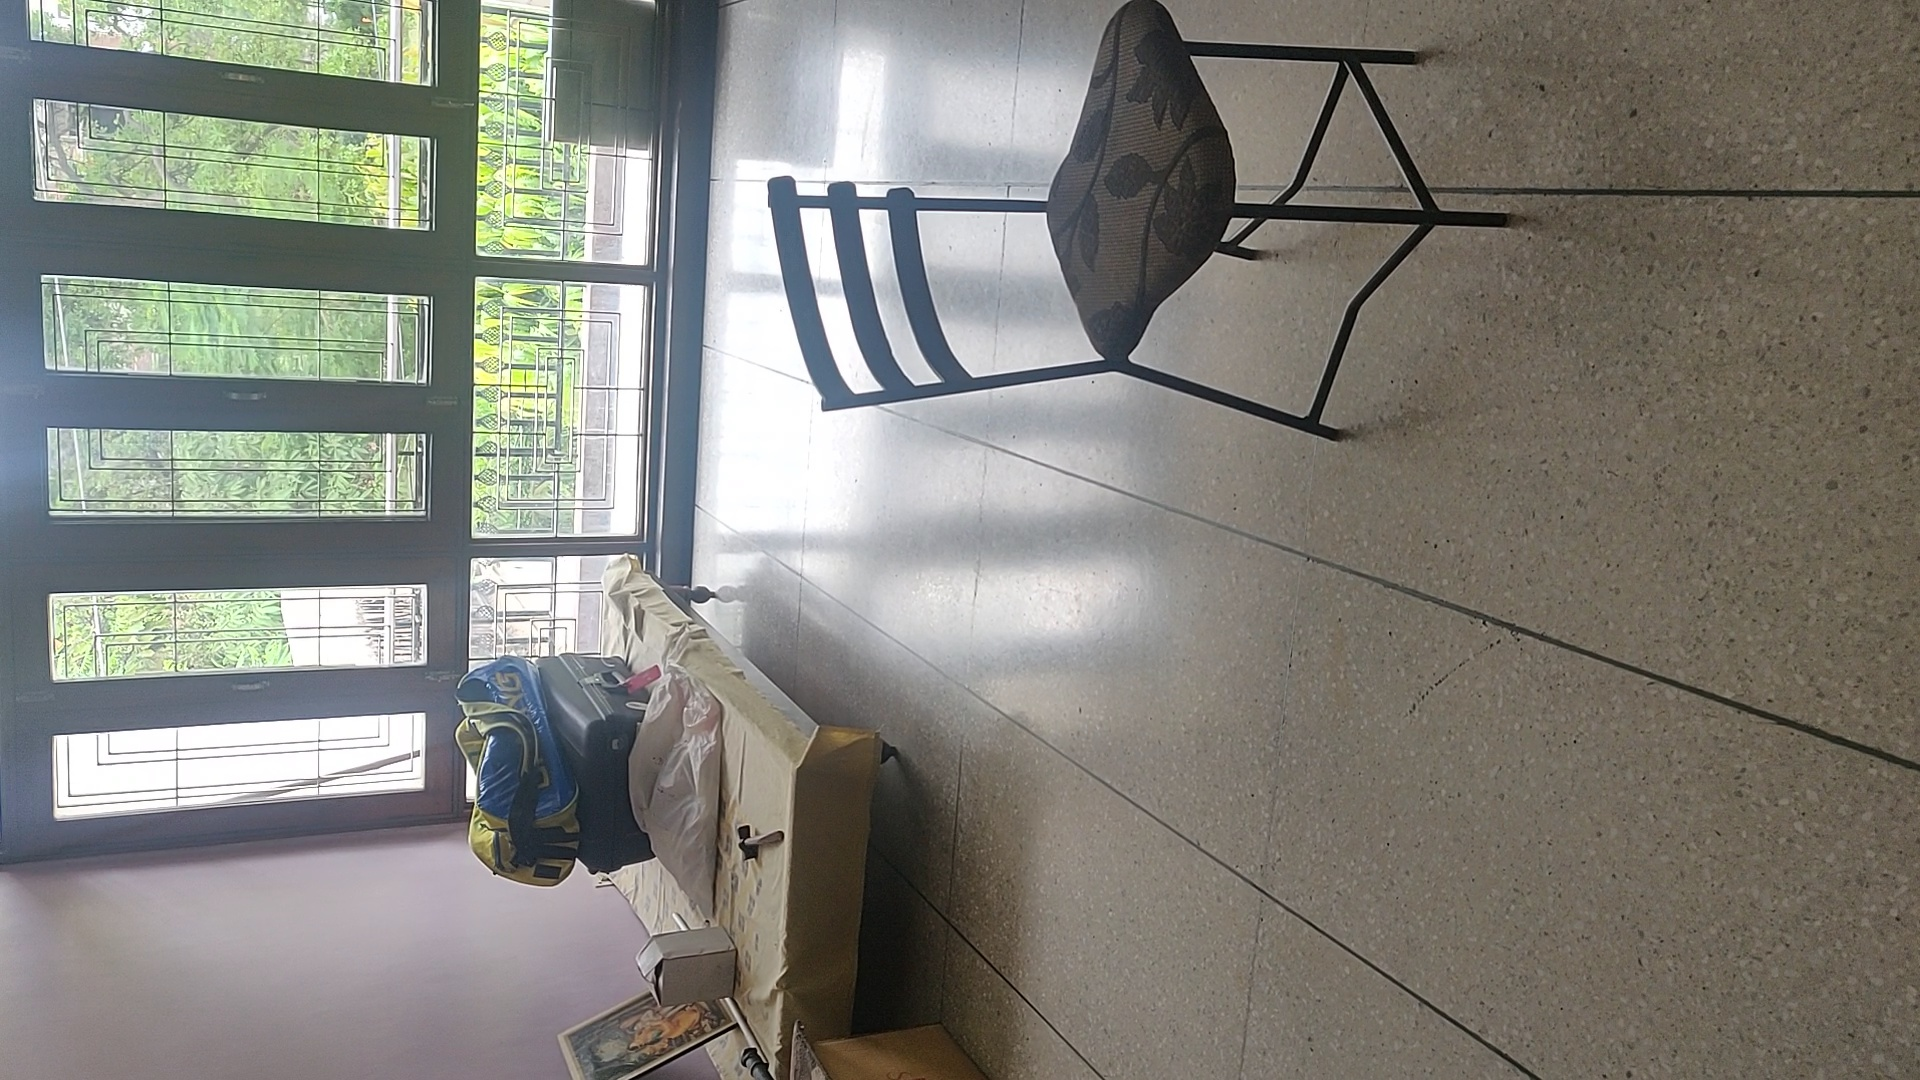hammer: (735, 822, 783, 865)
